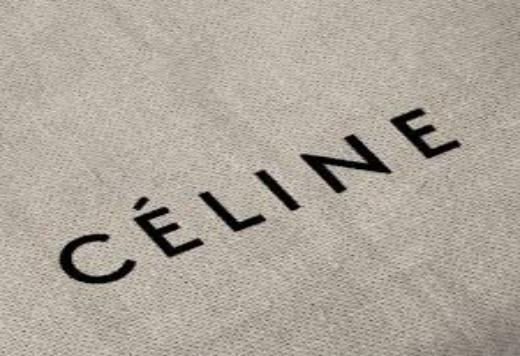CELINE: (48, 101, 469, 289)
